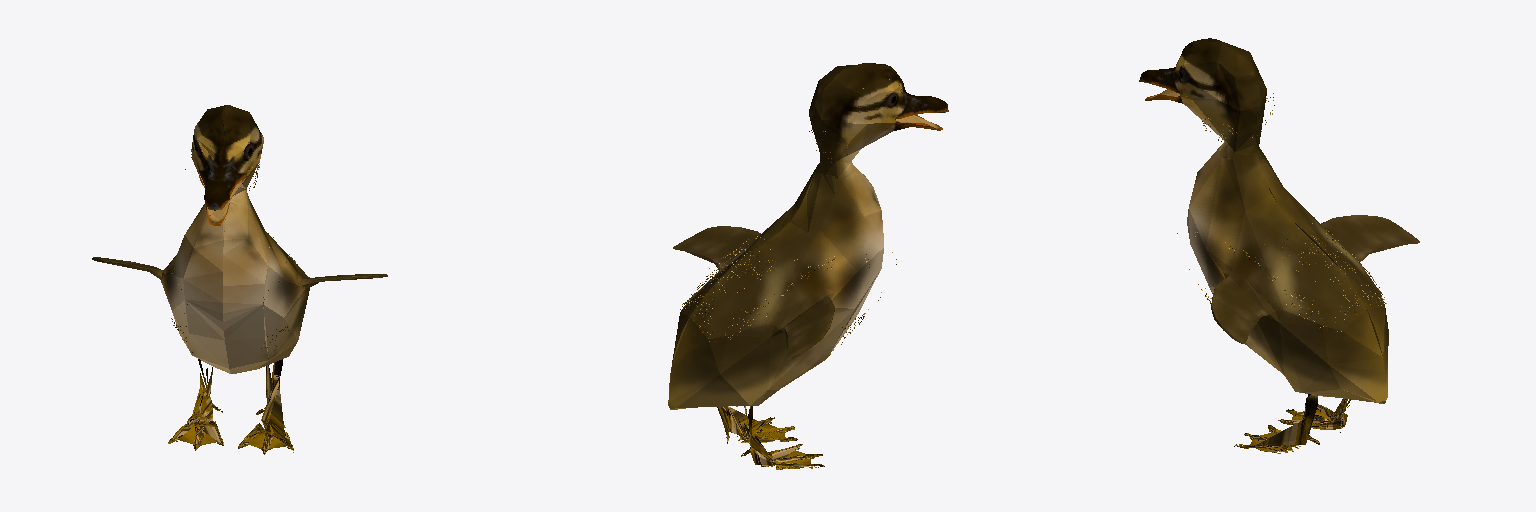
3 views of the same model, side by side, from view 1: azimuth 30°, elevation 25°; view 2: azimuth 150°, elevation 25°; view 3: azimuth 270°, elevation 25° (orthographic).
Parts seen in each view (by area): view 1: duckling.003; view 2: duckling.003; view 3: duckling.003.
Boxes of the visible parts, x1=… form: duckling.003: x1=92, y1=105, x2=387, y2=454; duckling.003: x1=668, y1=63, x2=948, y2=469; duckling.003: x1=1139, y1=38, x2=1419, y2=453.
Size of the model in its own units: 0.7768 by 1.21 by 0.8308.
Materials: 1 (1 with a texture image).